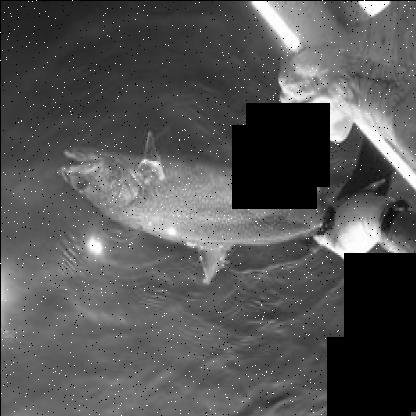fish: (60, 128, 392, 286)
